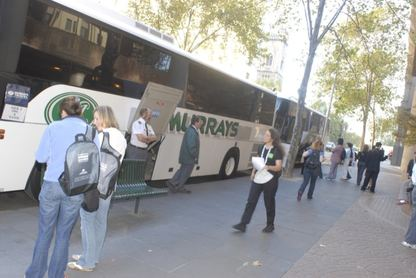bus: (0, 0, 275, 206), (272, 92, 331, 169)
